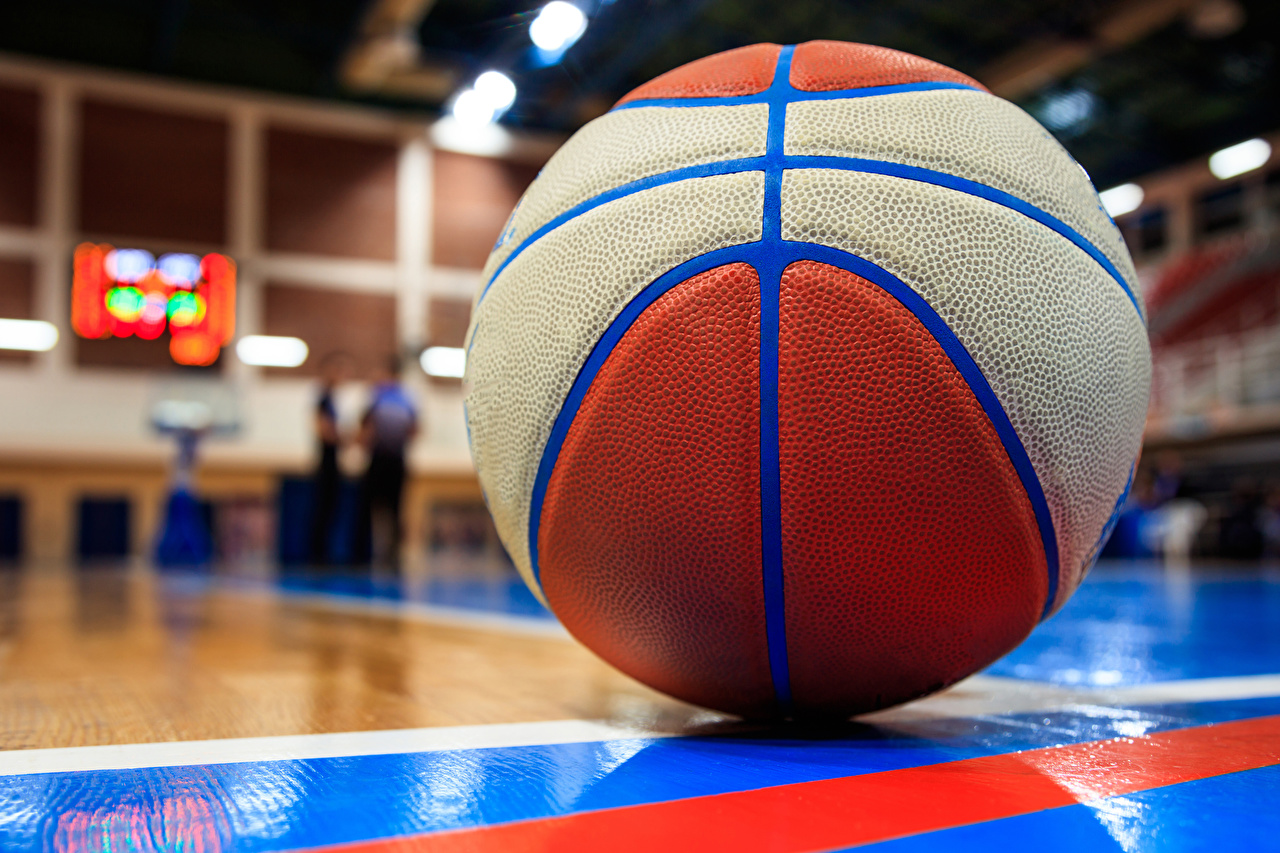ball: (463, 38, 1152, 720)
